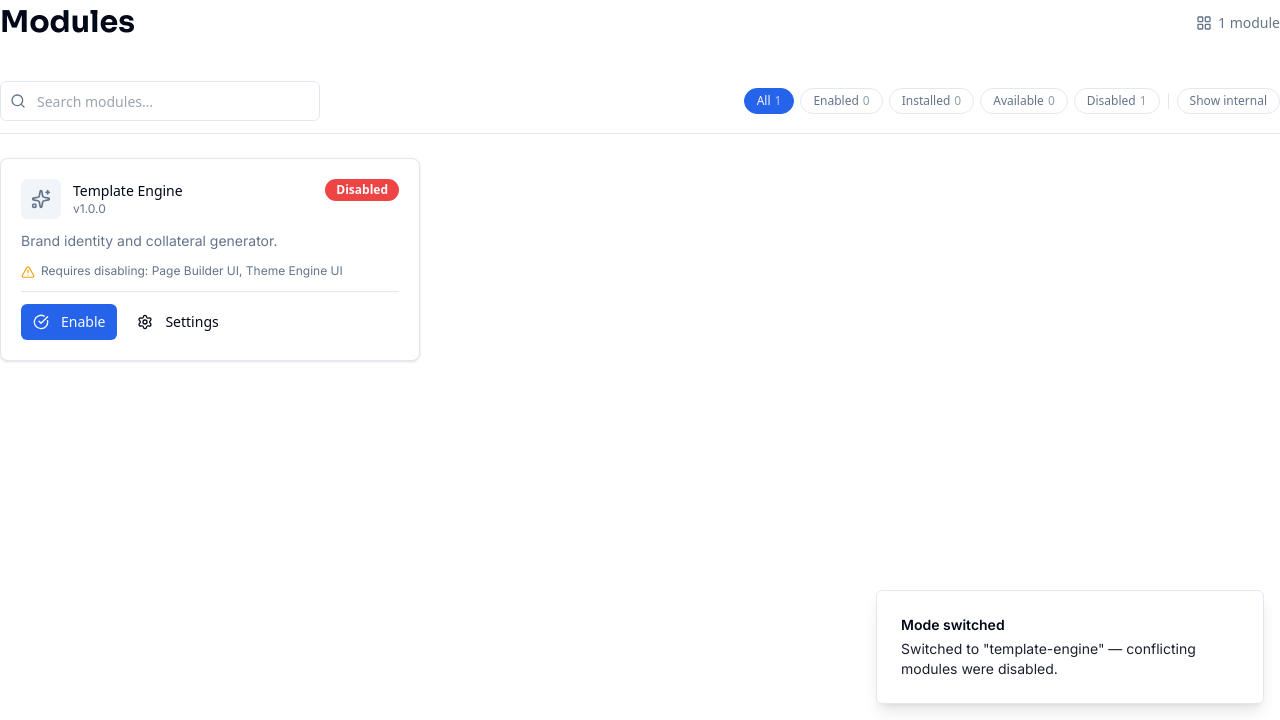
Test: ModulesPage — switch dialog › opens switch dialog (Enable & switch) for DISABLED conflicted module
Check: the button "Enabled0" is shown, box top-left (800, 88), bottom-right (883, 114)
Click the button "Enable" at (69, 322), box top-left (21, 304), bottom-right (117, 340)
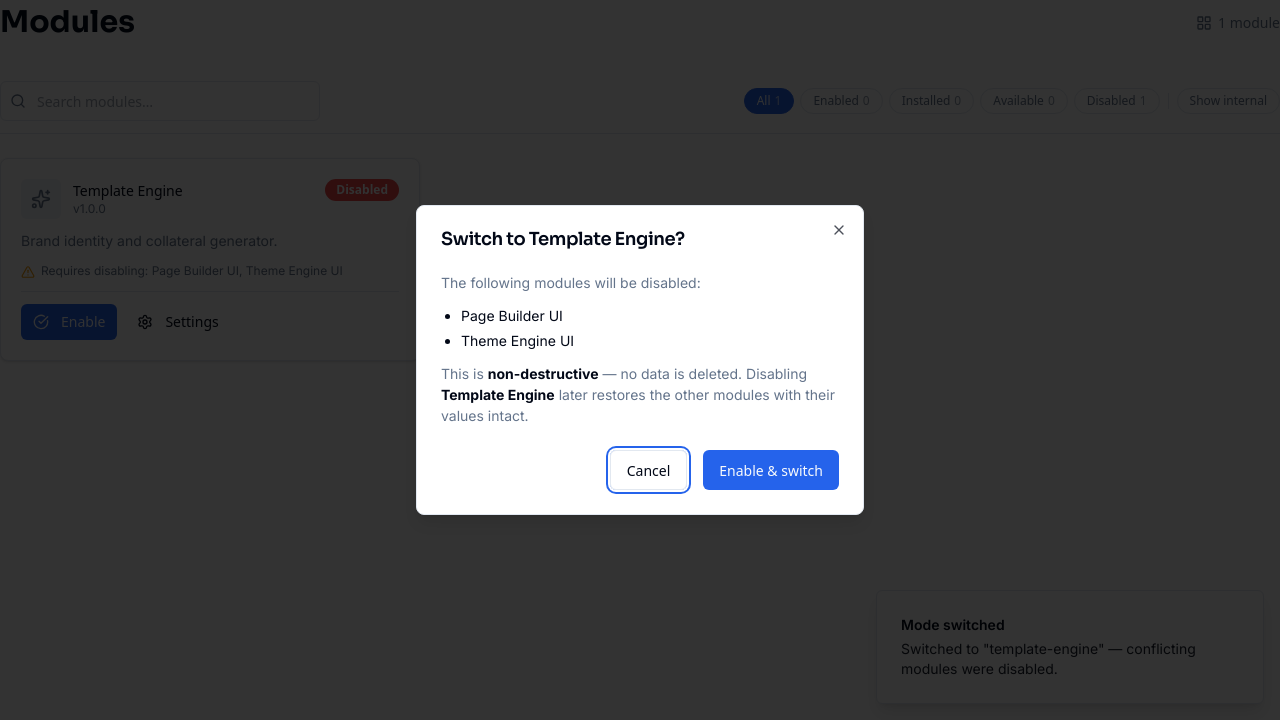
Check: the button "Enable & switch" is shown, box top-left (703, 450), bottom-right (839, 490)
